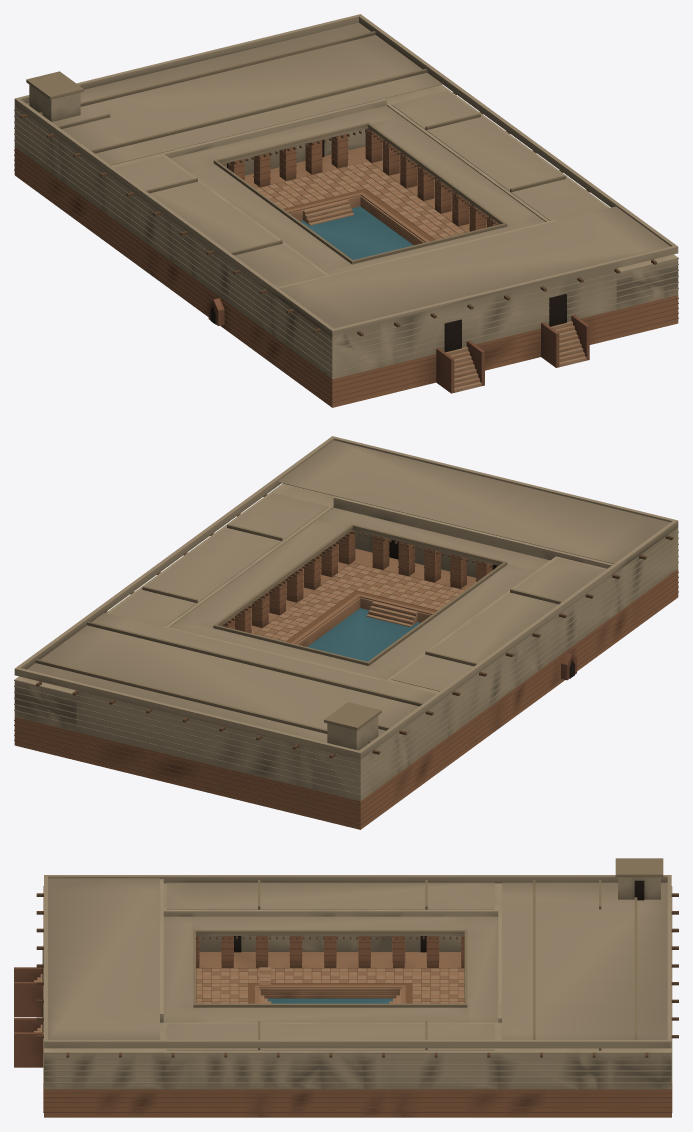
Rendered from great-bath.glb.
The picture shows the model from 3 angles, top to bottom: view 1: azimuth 30°, elevation 25°; view 2: azimuth 150°, elevation 25°; view 3: azimuth 270°, elevation 25°; orthographic projection.
Visible parts, largest first — view 1: p2_roofs, p1_colonnade and rooms, p0_brick platform and tank; view 2: p2_roofs, p1_colonnade and rooms, p0_brick platform and tank; view 3: p2_roofs, p1_colonnade and rooms, p0_brick platform and tank.
Part boxes in pixels (x1,y1,x2,y2): p2_roofs: (14,14,678,337); p1_colonnade and rooms: (14,84,678,379); p0_brick platform and tank: (14,147,678,407); p2_roofs: (14,436,678,759); p1_colonnade and rooms: (14,483,678,801); p0_brick platform and tank: (14,562,678,829); p2_roofs: (36,858,678,1057); p1_colonnade and rooms: (42,879,672,1089); p0_brick platform and tank: (14,967,672,1117).
Size of the model in its own units: 34.25 by 8.85 by 55.6.
